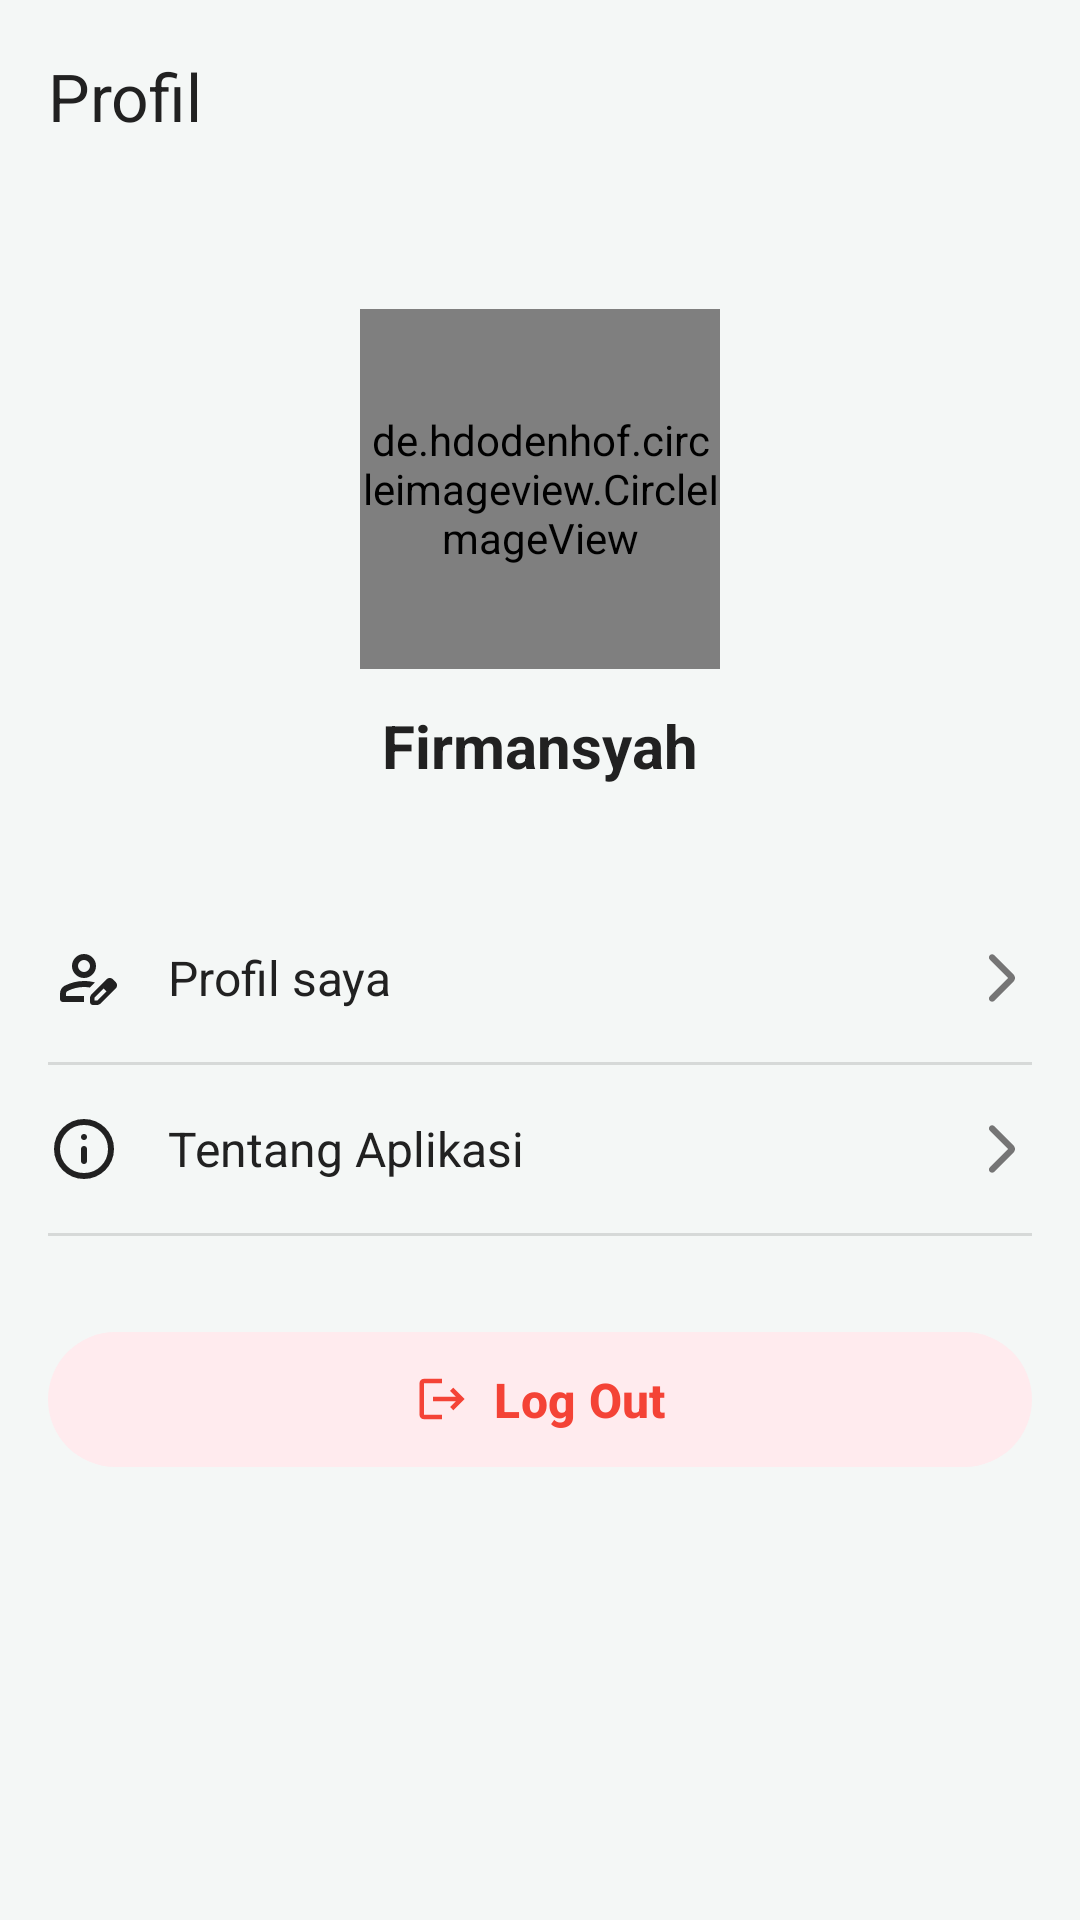

Screen size 1080x1920. Icon name, then its box in pixels as (x1, y1, x2, y2):
arrow forward: (989, 954, 1015, 1002), (989, 1125, 1015, 1173)
edit profile: (60, 954, 117, 1005)
info about app: (54, 1119, 114, 1179)
